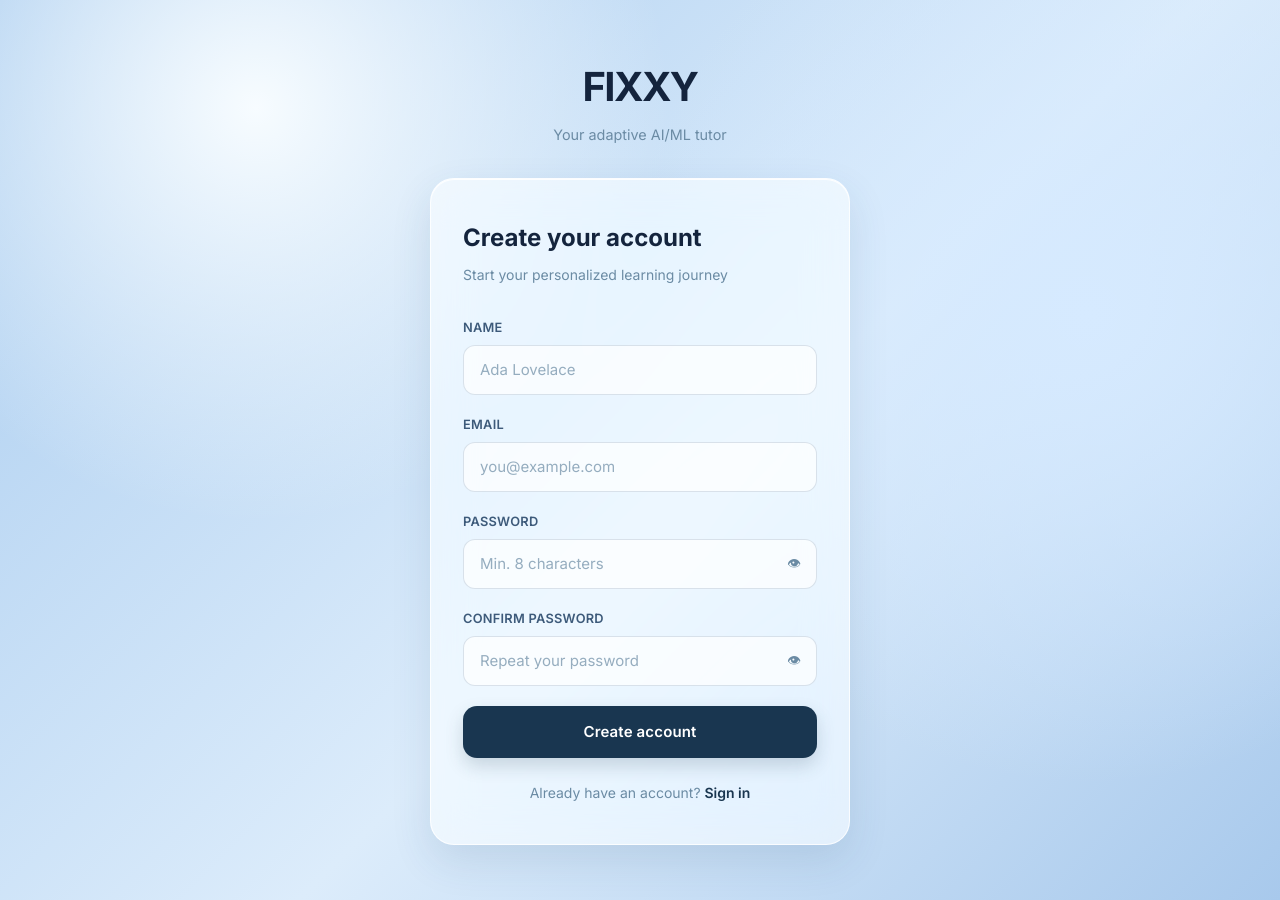
RegisterPage › shows validation error when name is empty
This screenshot has width=1280, height=900.
Click the button with id "register-submit" at (640, 732), box x1=463 y1=706 x2=817 y2=758
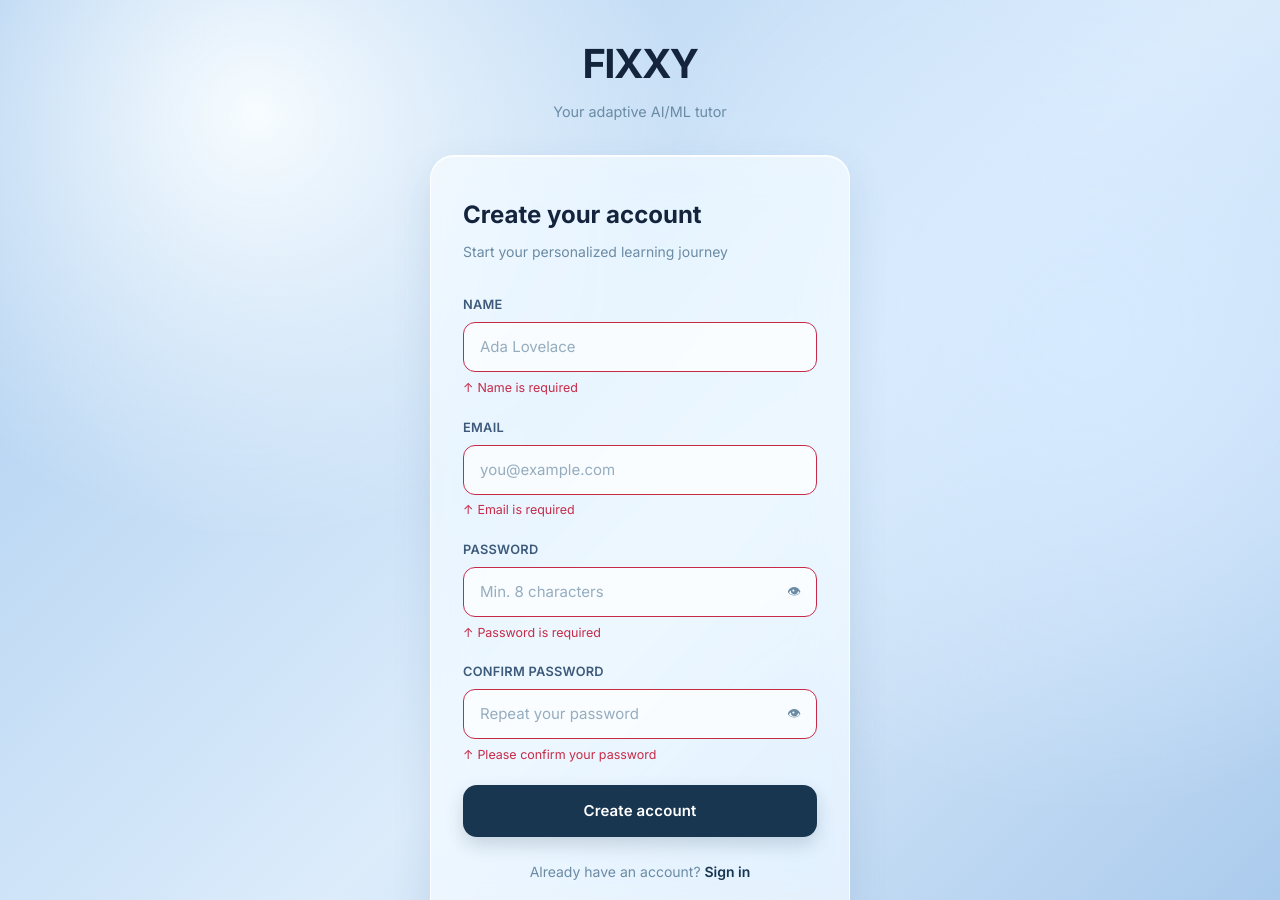
Now the text "↑ Name is required" is shown, box x1=463 y1=380 x2=578 y2=395
